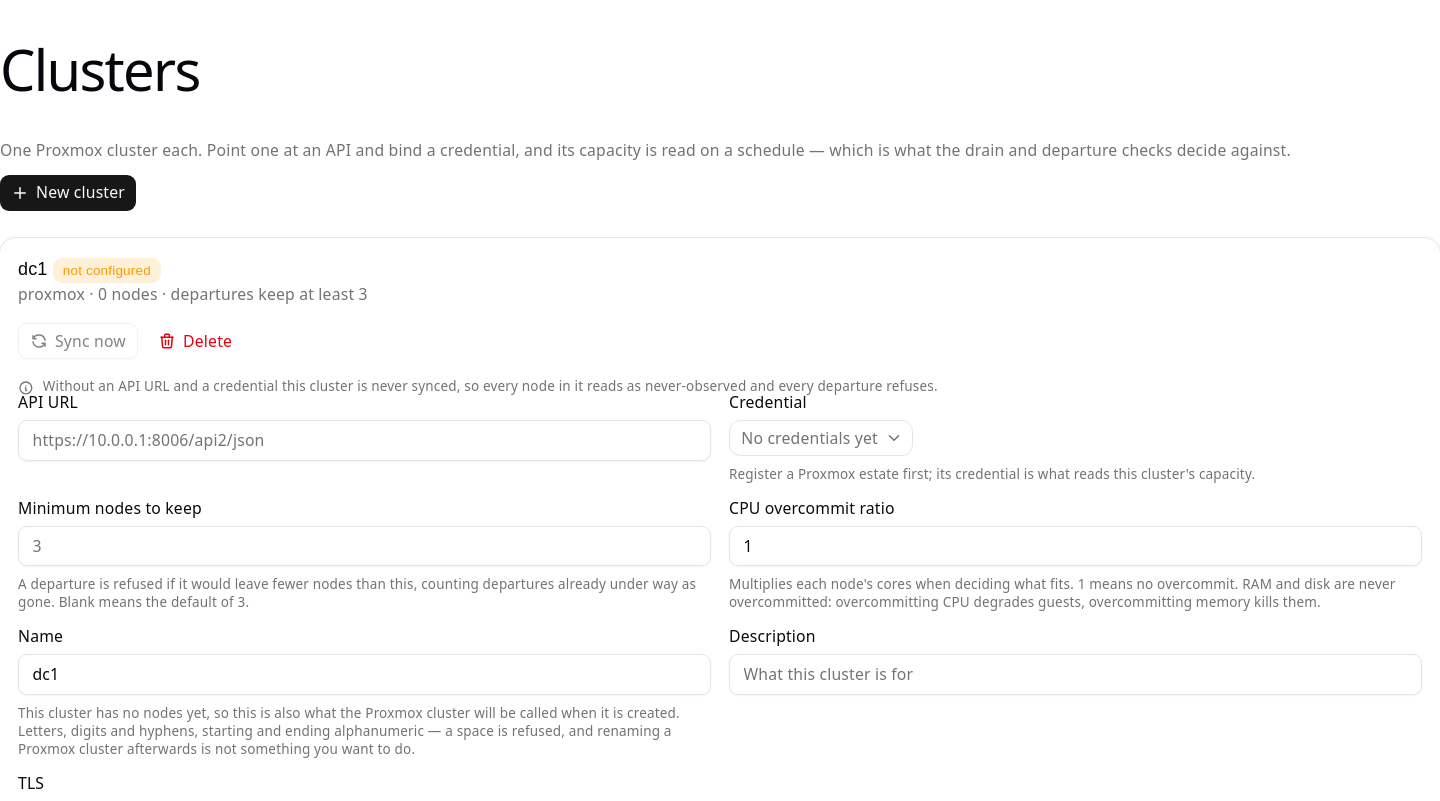
Test: Deleting a cluster › deletes an empty cluster and drops it from the list
Expected: the text "dc1" is shown, [18,259,48,279]
Click the button with aria-label "delete dc1": (195, 341) [147,323,243,359]
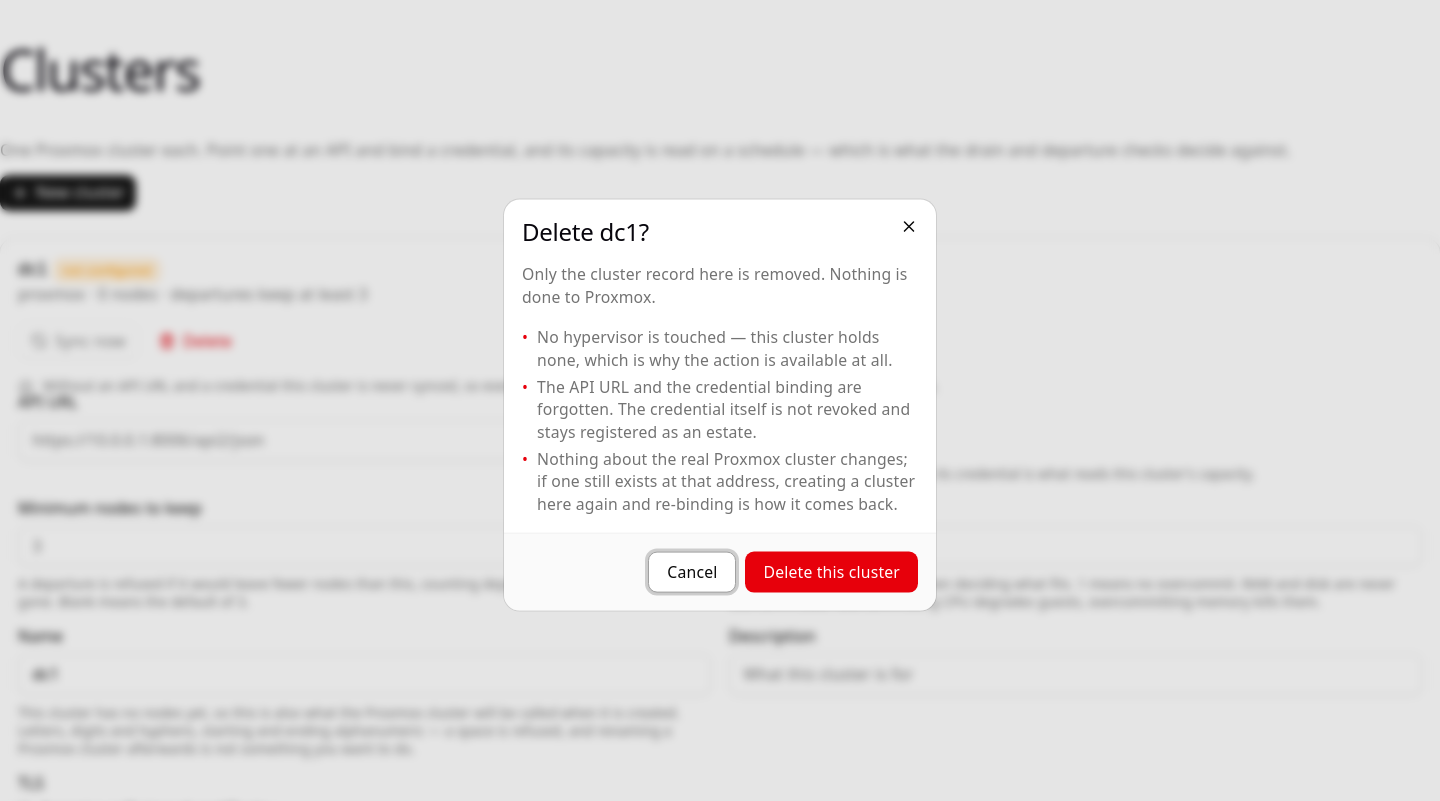
Now the text "Nothing is done to Proxmox" is shown, box [522,263,908,307]
Click the button "Delete this cluster": (832, 572) [746,552,918,592]
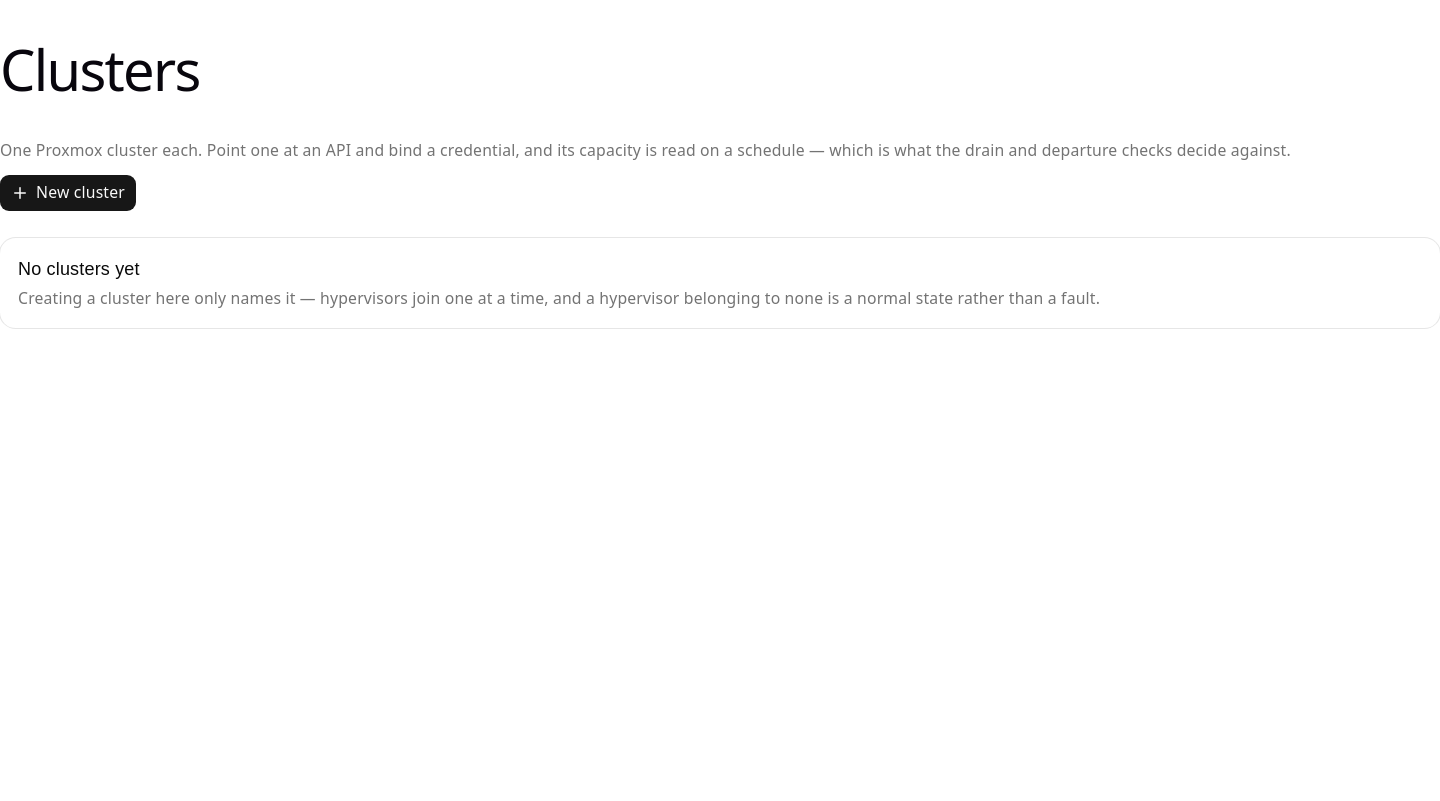
Now the text "dc1" is gone
